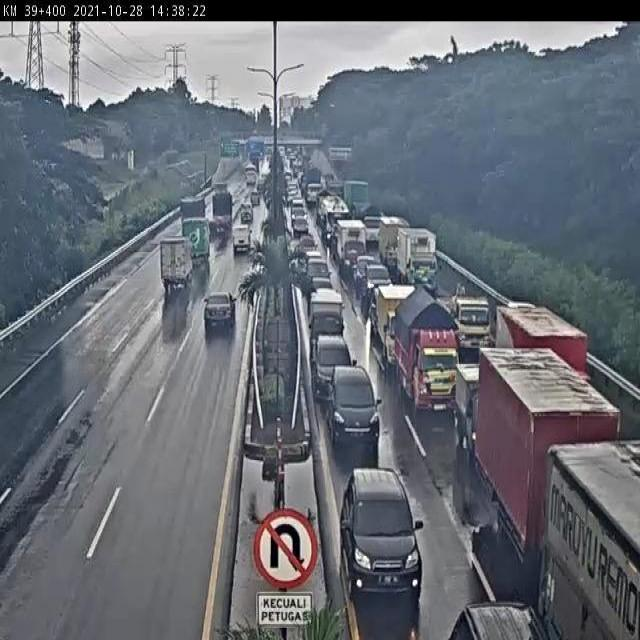big truck: (478, 355, 611, 573), (544, 444, 640, 640), (498, 307, 600, 429), (441, 284, 493, 345)
car: (340, 464, 427, 608), (441, 585, 550, 640), (326, 362, 388, 450), (402, 226, 447, 290), (316, 335, 359, 392), (200, 280, 242, 329), (229, 223, 263, 260), (310, 312, 346, 340), (366, 266, 394, 294)
small truck: (399, 288, 458, 416), (452, 357, 498, 467), (182, 216, 216, 264), (158, 238, 187, 290)
